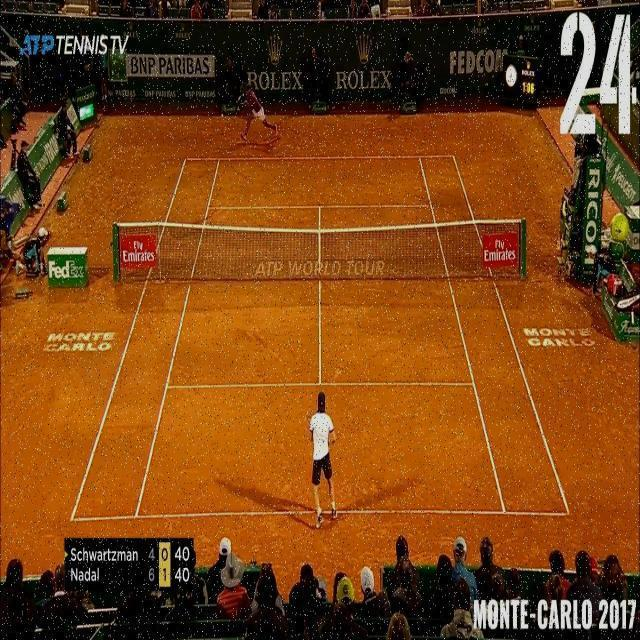left side: (420, 157, 569, 514), (73, 159, 219, 520)
player: (304, 388, 342, 528), (236, 84, 278, 142)
